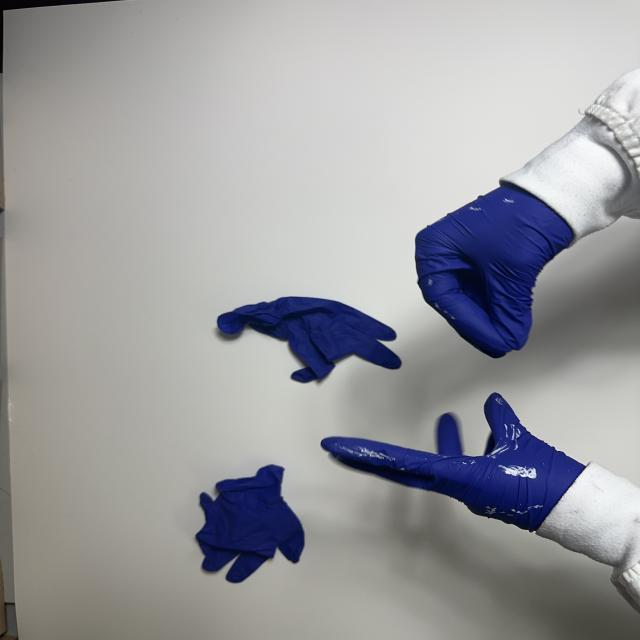gloves_contaminated: (321, 393, 585, 531), (415, 186, 573, 358)
